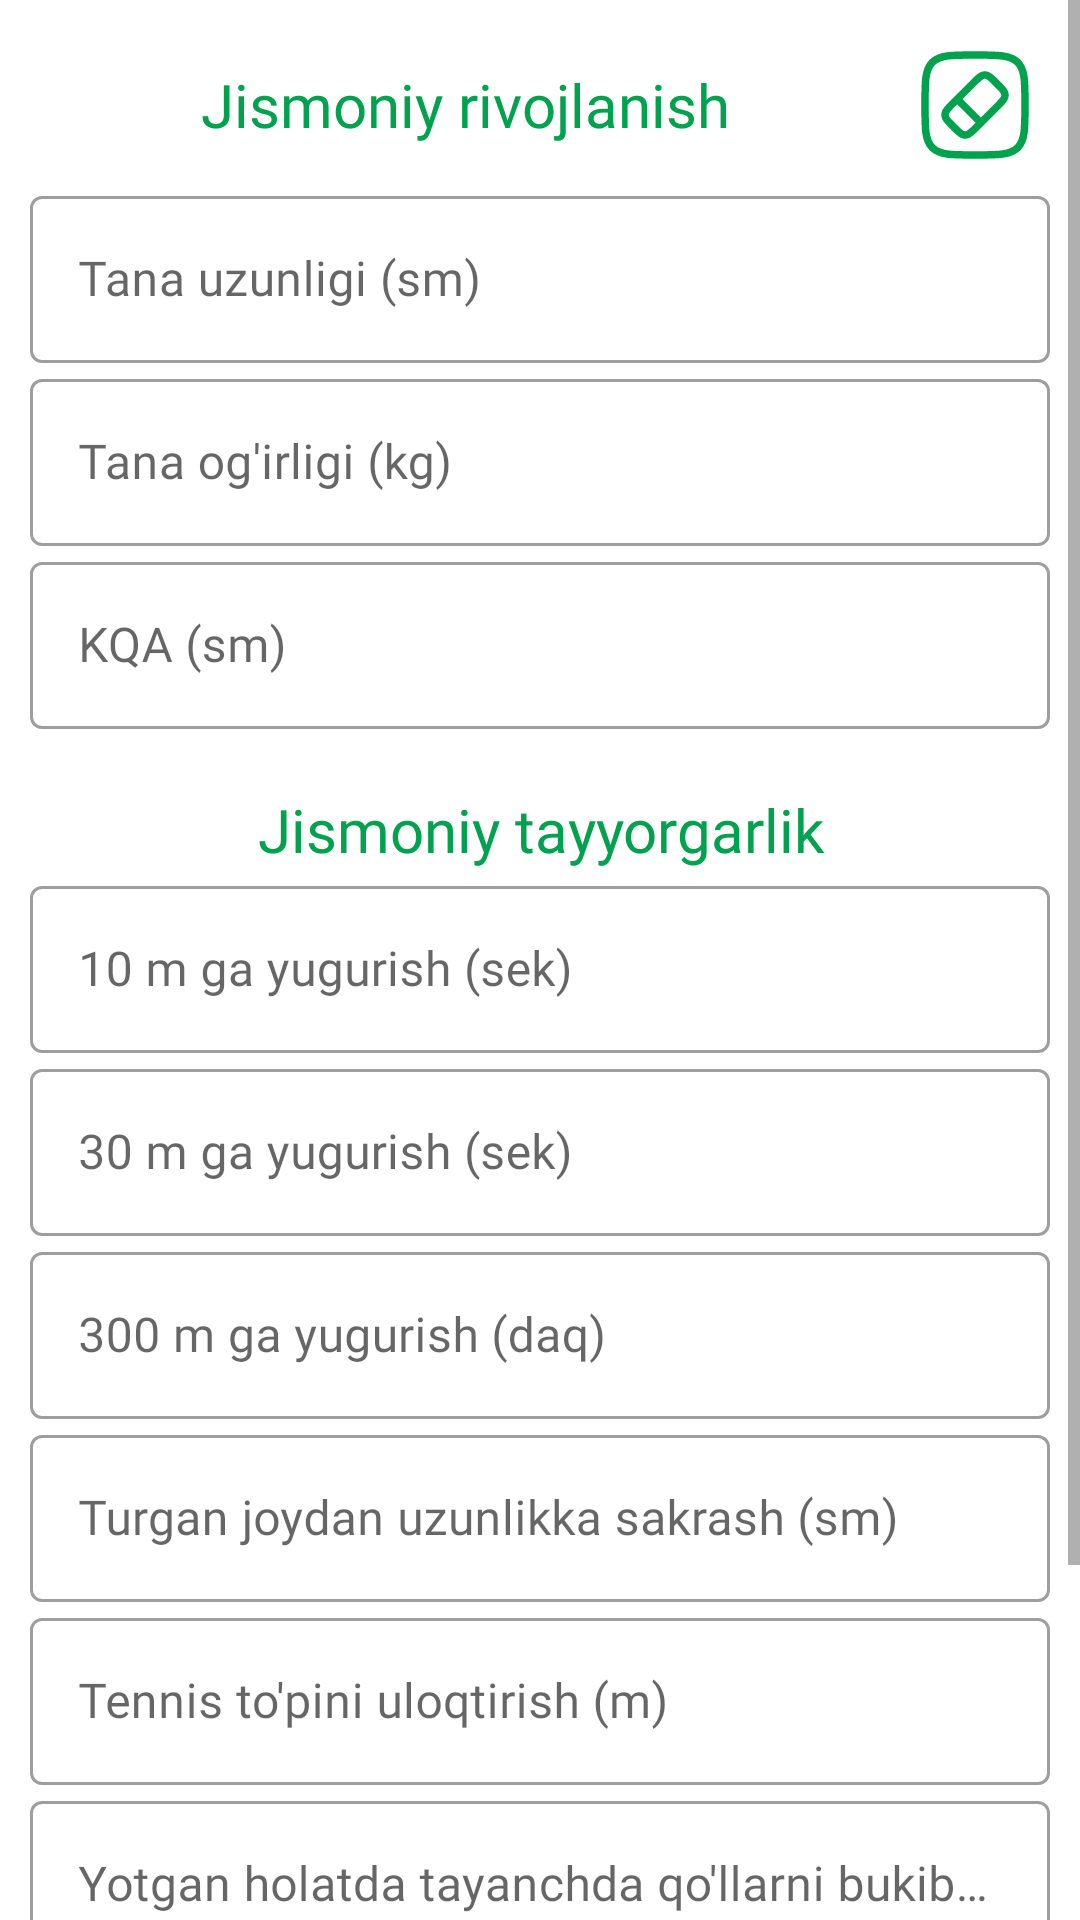

Named icons in this screenshot (1080px x 1920px) and their centers, [x,y]:
eraser: [975,105]
